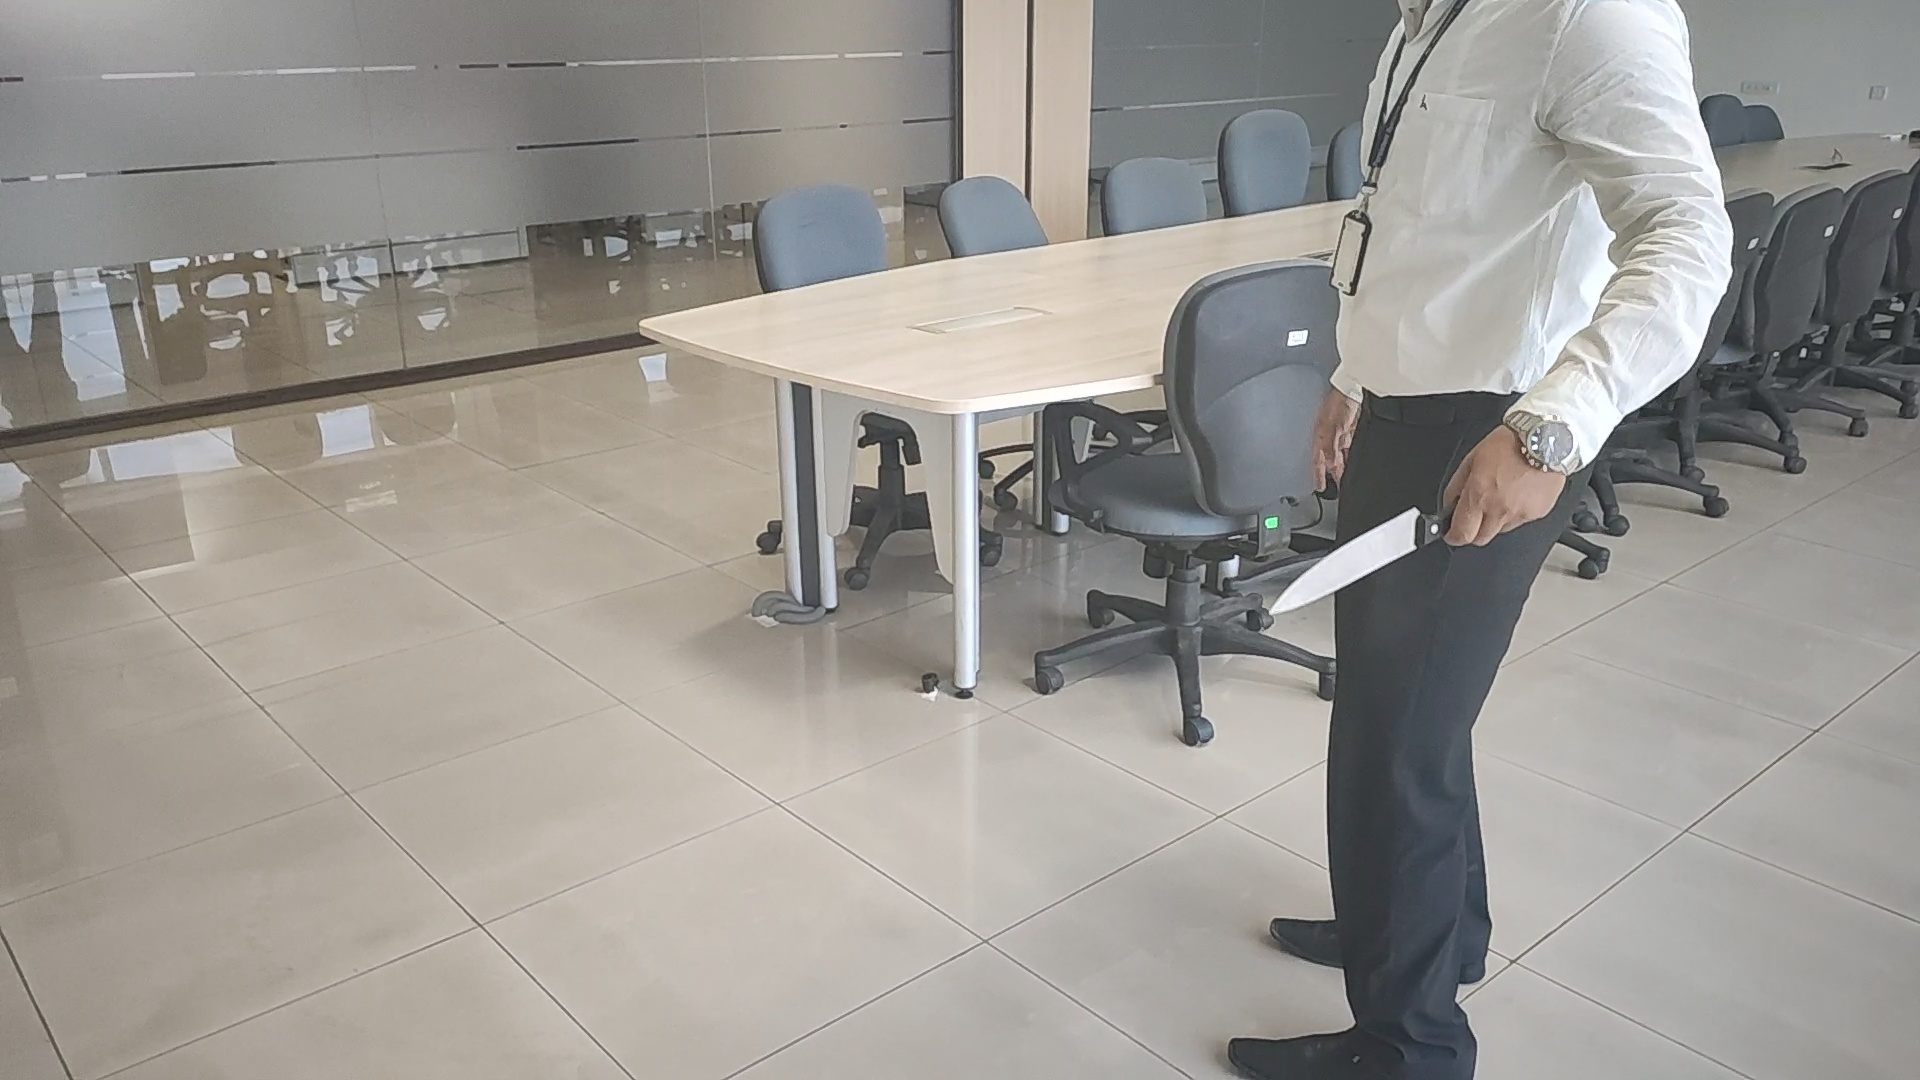knife: (1270, 505, 1447, 617)
